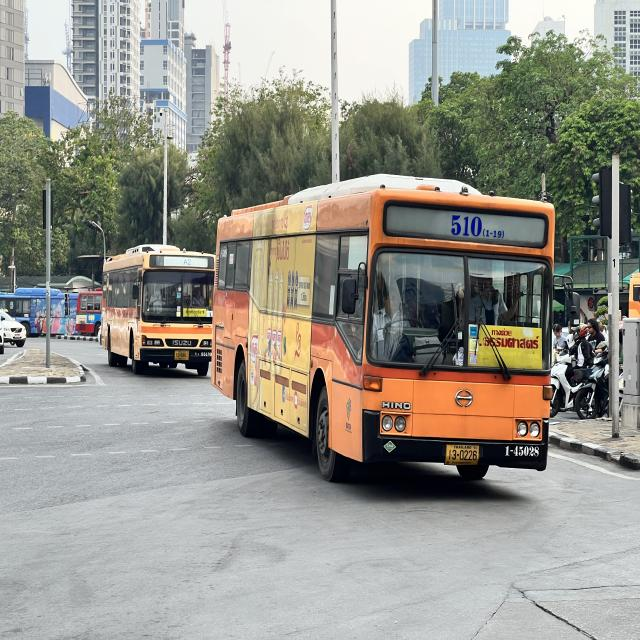BMTA-bus: (210, 176, 558, 485), (104, 245, 213, 377)
Bus-Line-Number: (446, 212, 506, 245), (179, 255, 196, 269)
Destination-Sign-Normal-Expressway: (468, 323, 542, 374), (182, 307, 207, 318)
